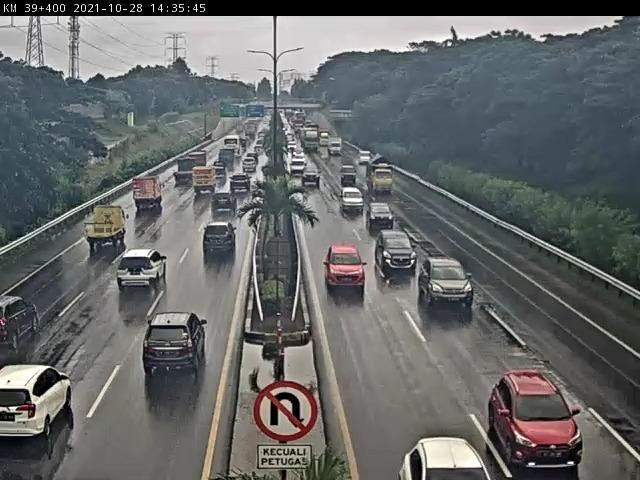car: (137, 301, 214, 387), (406, 392, 474, 480), (504, 371, 571, 453), (8, 363, 51, 440), (108, 248, 167, 300), (7, 293, 48, 346), (417, 248, 470, 288), (373, 221, 415, 262), (195, 233, 239, 269), (327, 239, 364, 279), (204, 205, 235, 231), (367, 152, 387, 188), (333, 179, 359, 205), (185, 143, 210, 168), (359, 192, 385, 216), (225, 180, 247, 204), (338, 157, 361, 179), (305, 161, 317, 186), (219, 149, 232, 170), (240, 163, 255, 180), (292, 155, 307, 171), (211, 164, 224, 182), (355, 147, 367, 160)
truck: (89, 203, 129, 251), (126, 182, 162, 205), (185, 173, 210, 201), (328, 136, 343, 155)
